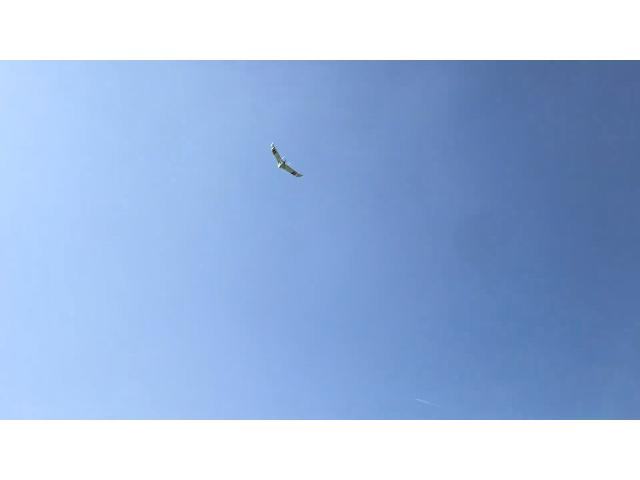Anti-Drone: (258, 137, 310, 178)
